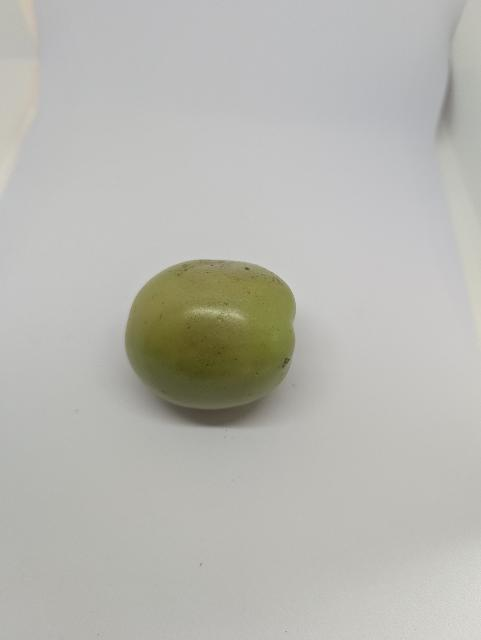green: (118, 249, 311, 440)
